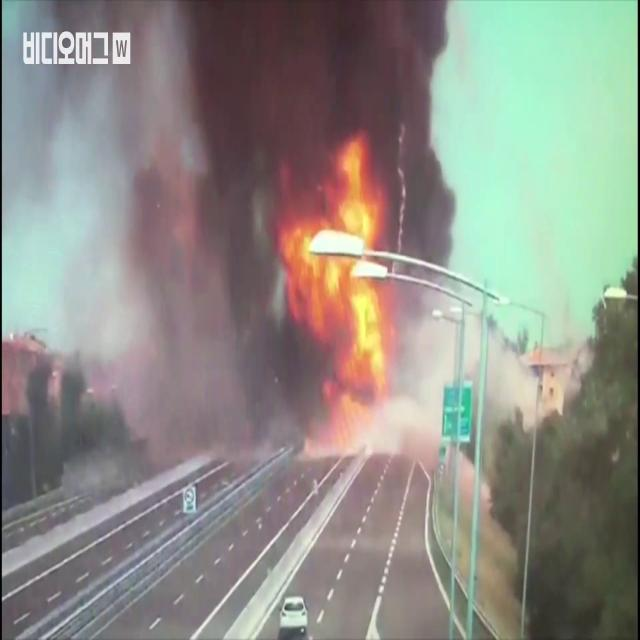explosion: (135, 16, 479, 470)
